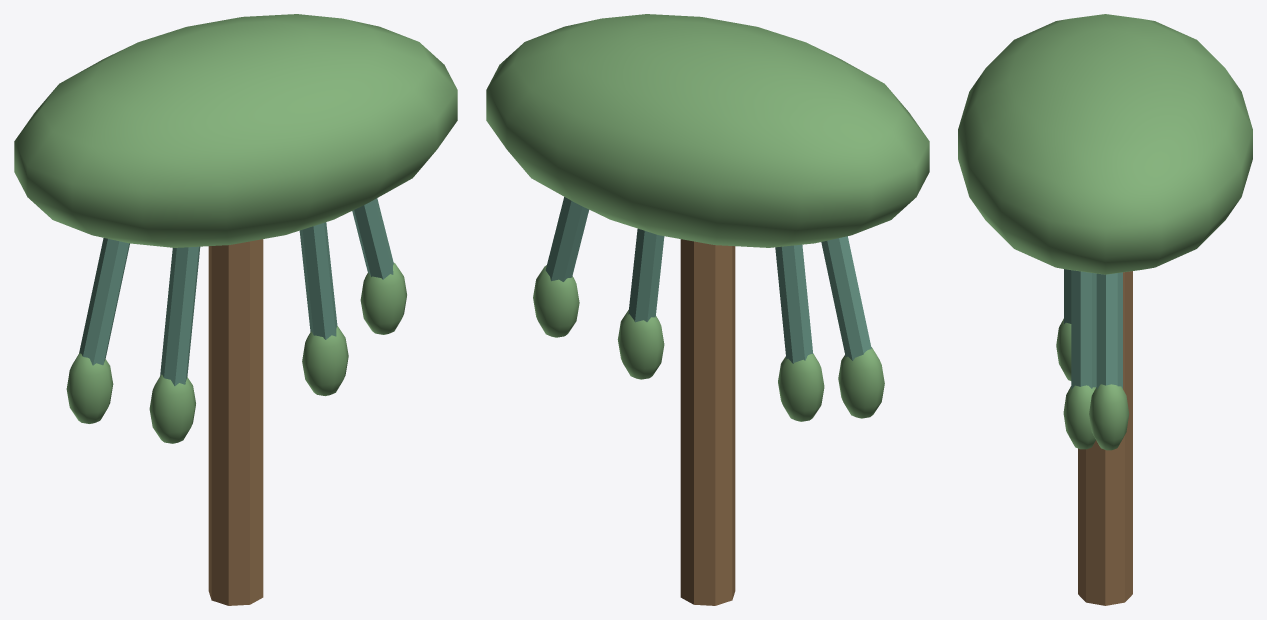
The model's file is granular_willow_tree.glb.
3 renders of one model, left to right at view 1: azimuth 30°, elevation 25°; view 2: azimuth 150°, elevation 25°; view 3: azimuth 270°, elevation 25°, orthographic. The views are drawn at different scales.
Parts seen in each view (by area): view 1: granular_willow_tree_root; view 2: granular_willow_tree_root; view 3: granular_willow_tree_root.
Part boxes in pixels (left/top/right/bottom): granular_willow_tree_root: left=14, top=14, right=457, bottom=605; granular_willow_tree_root: left=486, top=14, right=929, bottom=605; granular_willow_tree_root: left=958, top=14, right=1252, bottom=605.
Size of the model in its own units: 3.95 by 5 by 2.49.
